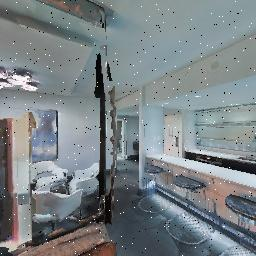chair: (160, 172, 213, 248), (214, 190, 256, 256), (132, 162, 168, 219)
